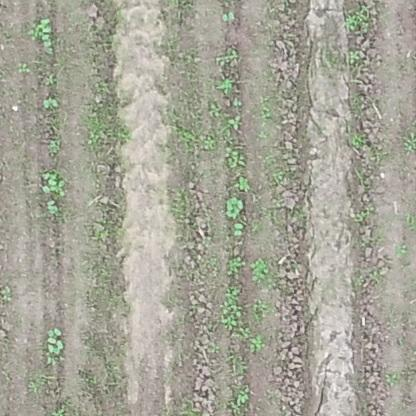vc: (44, 327, 66, 353), (42, 170, 67, 192), (40, 18, 57, 50), (226, 196, 244, 218), (39, 93, 59, 110), (43, 199, 61, 217), (235, 224, 244, 237)
